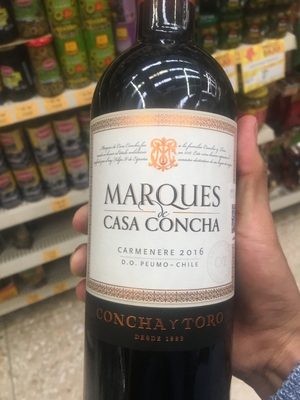marques de casa concha carmenere: (76, 31, 237, 388)
